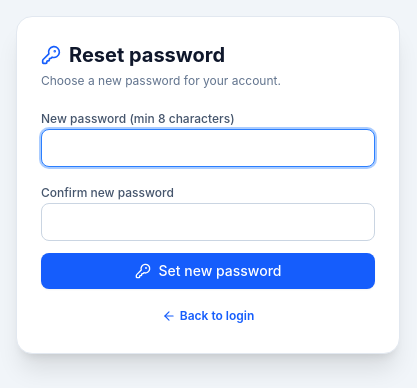
Test case: ResetPassword page › submits token + new password and shows success
The width and height of the screenshot is (417, 388).
Step 1. Type "newpassword1" into the password field below "New password (min 8 characters)" → [208, 148], box 41,129 -> 375,167
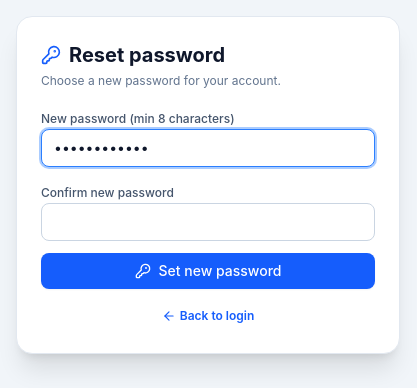
Step 2. Type "newpassword1" into the password field below "Confirm new password" → [208, 222], box 41,203 -> 375,241
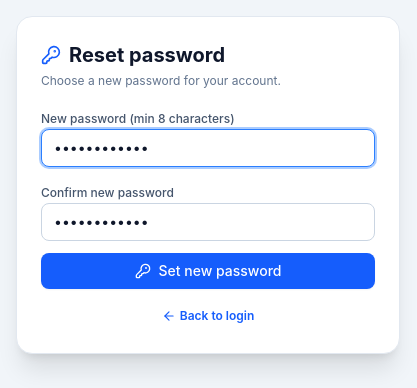
Step 3. Click the button "Set new password" → [208, 271], box 41,253 -> 375,289
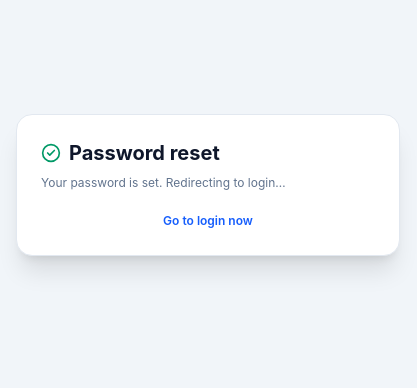
Expected: the heading "Password reset" is shown, 41,141 -> 220,165
Expected: the link "Go to login now" is shown, 163,213 -> 253,229
